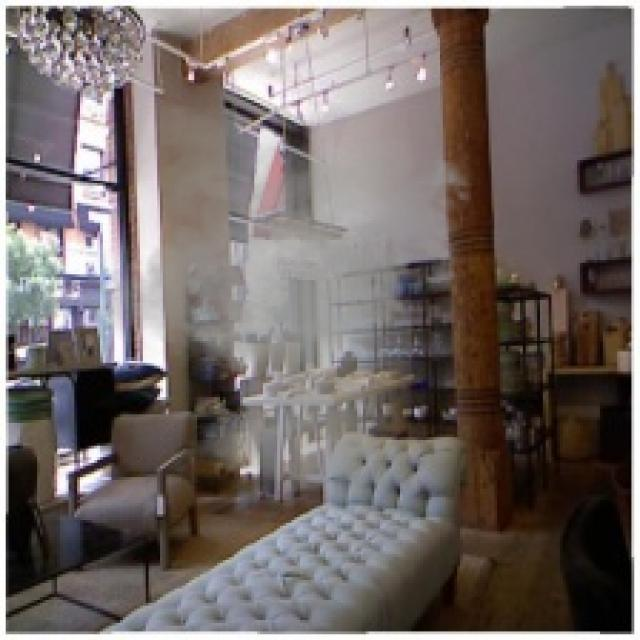Smoke: (86, 106, 483, 500)
